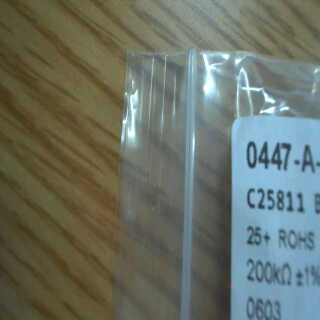200kR: (241, 258, 294, 285)
